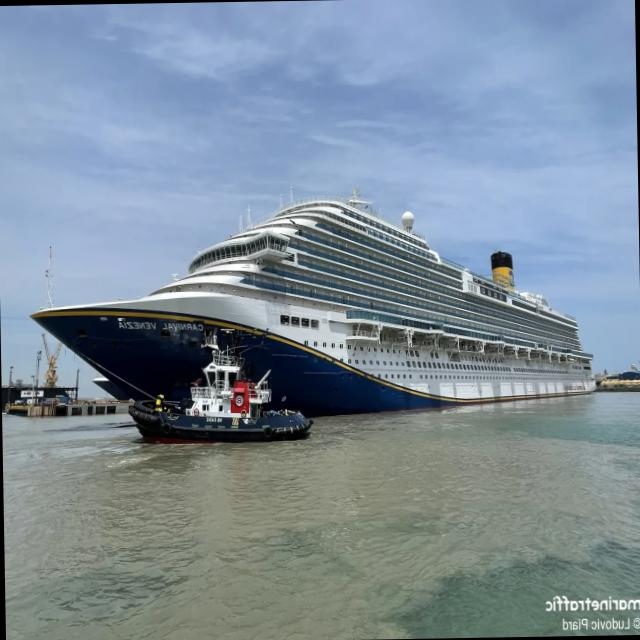Cruise: (31, 189, 596, 414)
Tug: (128, 332, 312, 441)
